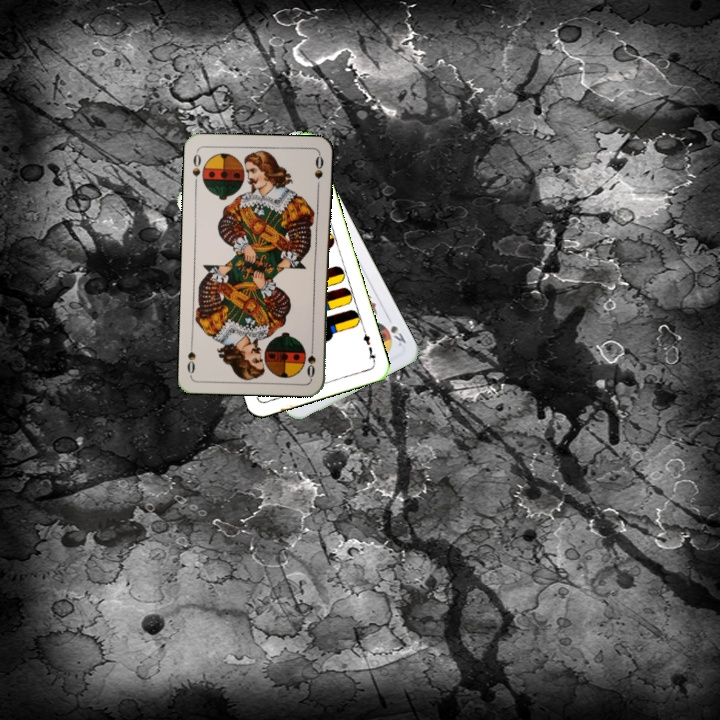E7: (359, 326, 379, 366)
SK: (386, 321, 409, 349)
SO: (303, 340, 318, 380), (188, 148, 203, 188)
